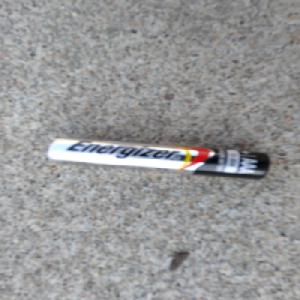Battery: (42, 136, 272, 180)
